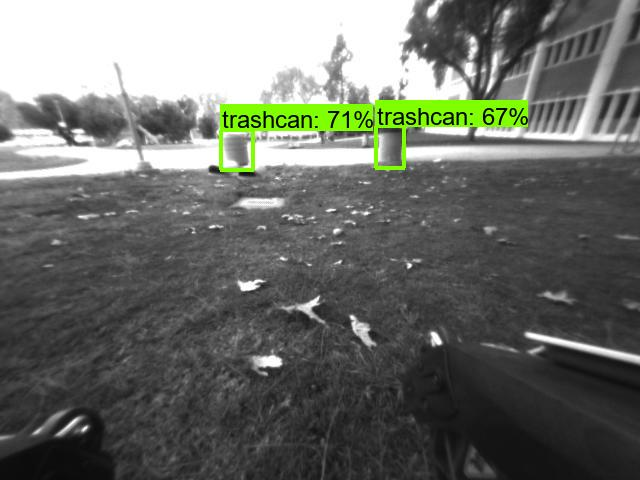trashcan: (221, 132, 255, 166), (376, 127, 402, 164)
